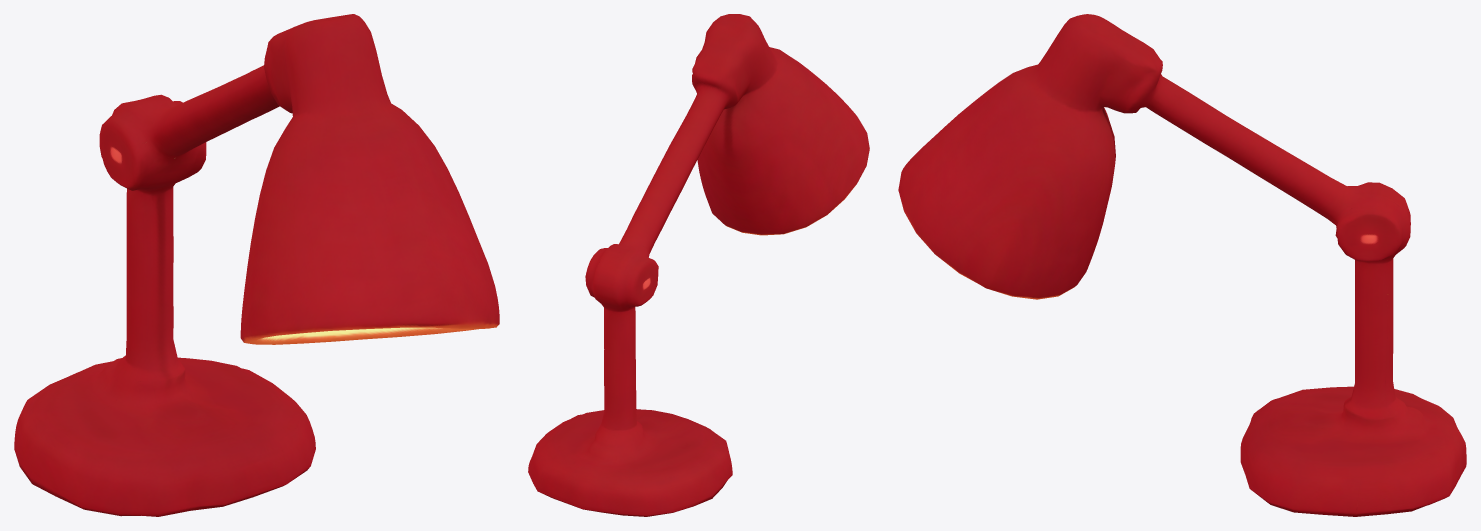
Rendered from 08-lamp.fbx.
3 views of the same model, side by side, from view 1: azimuth 30°, elevation 25°; view 2: azimuth 150°, elevation 25°; view 3: azimuth 270°, elevation 25° (orthographic). The views are drawn at different scales.
Parts seen in each view (by area): view 1: model; view 2: model; view 3: model.
Part boxes in pixels (<box>): model: <box>14,14,499,516</box>; model: <box>528,14,869,516</box>; model: <box>898,14,1466,516</box>.
Size of the model in its own units: 78.89 by 168 by 190.
